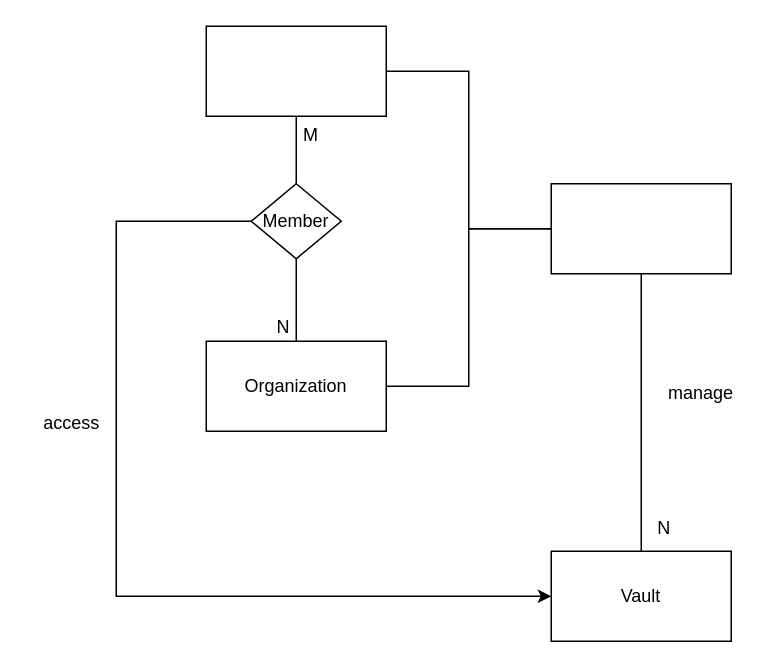
The diagram is 771 pixels wide and 668 high, and some of its shapes have lost their labels. The shapes that lost their labels are listed below. From the top down, each one's box as (x1, y1, x2, y2) in pixels, then its label:
(205, 25, 386, 116): User
(550, 182, 731, 274): Owner
